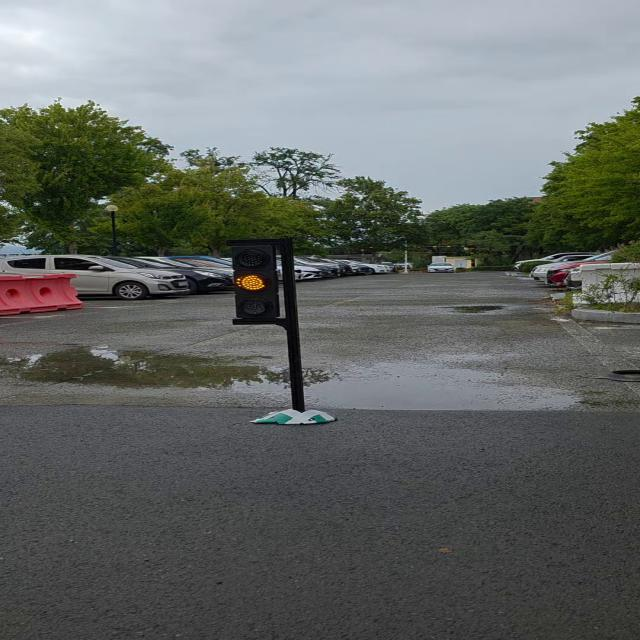yellow: (222, 236, 299, 332)
